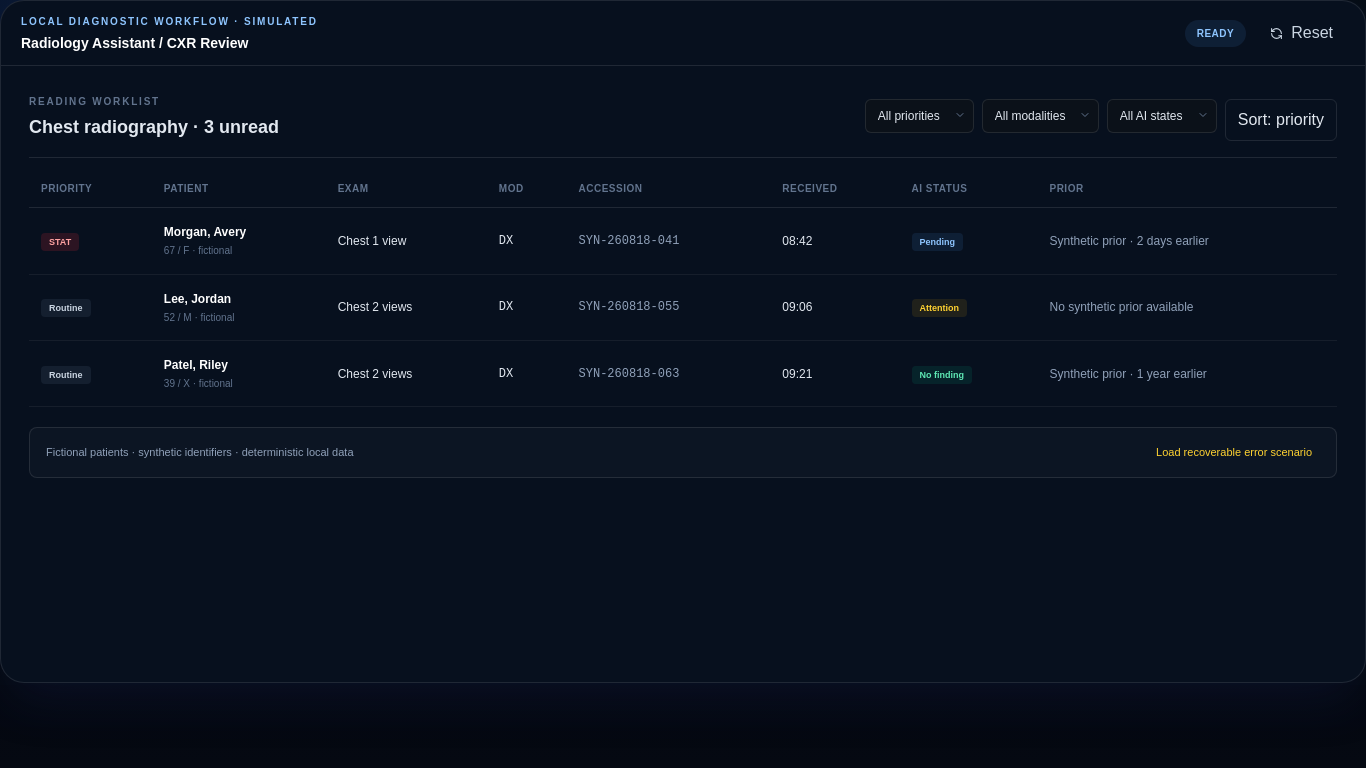
Radiology Assistant simulation › renders and filters the deterministic worklist with keyboard study selection
Expected: the heading "Chest radiography · 3 unread" is shown, [29,113,279,141]
Select "STAT" in the dropdown named "Priority": (919, 116) [865,99,974,133]
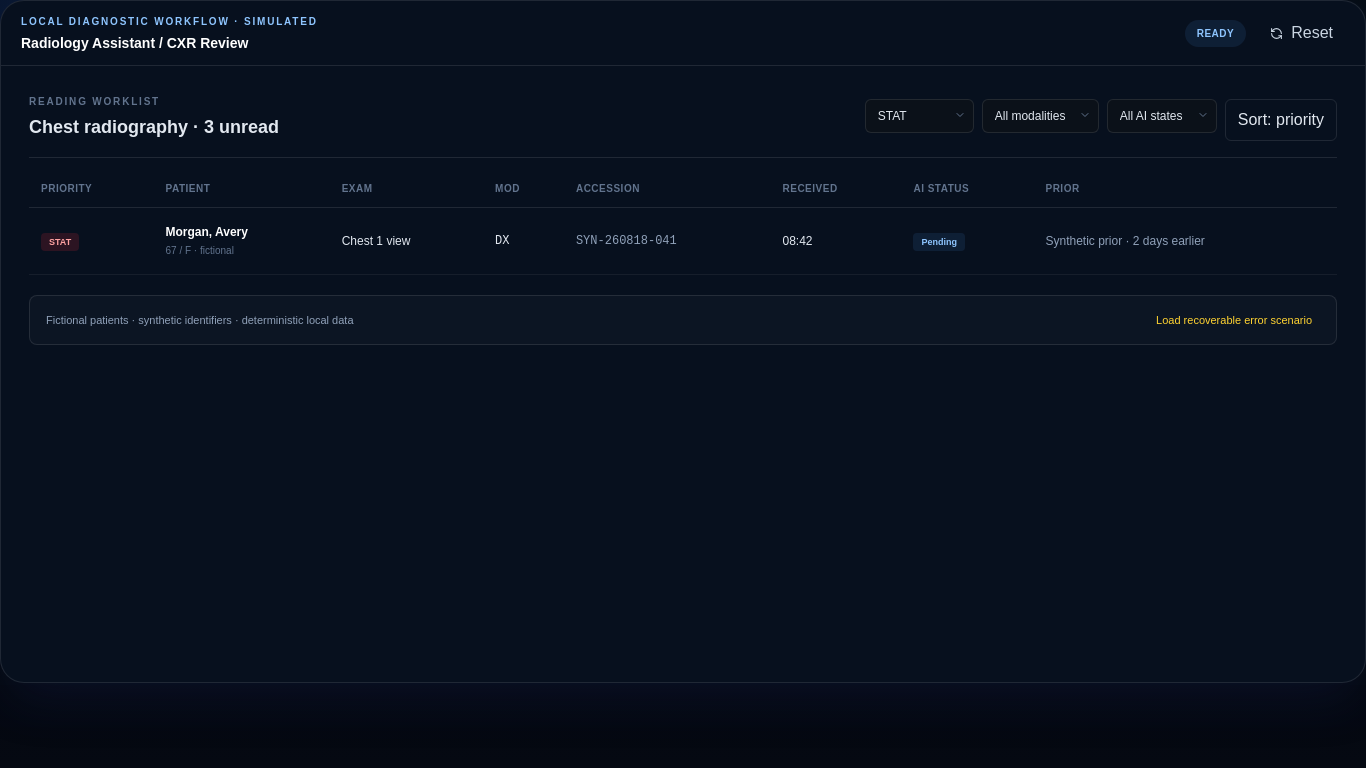
Expected: the text "Morgan, Avery" is shown, [166,225,248,239]
Now the text "Lee, Jordan" is gone
Press Enter in the text "Morgan, Avery", box [29,208,1337,274]
Wait 400 ms
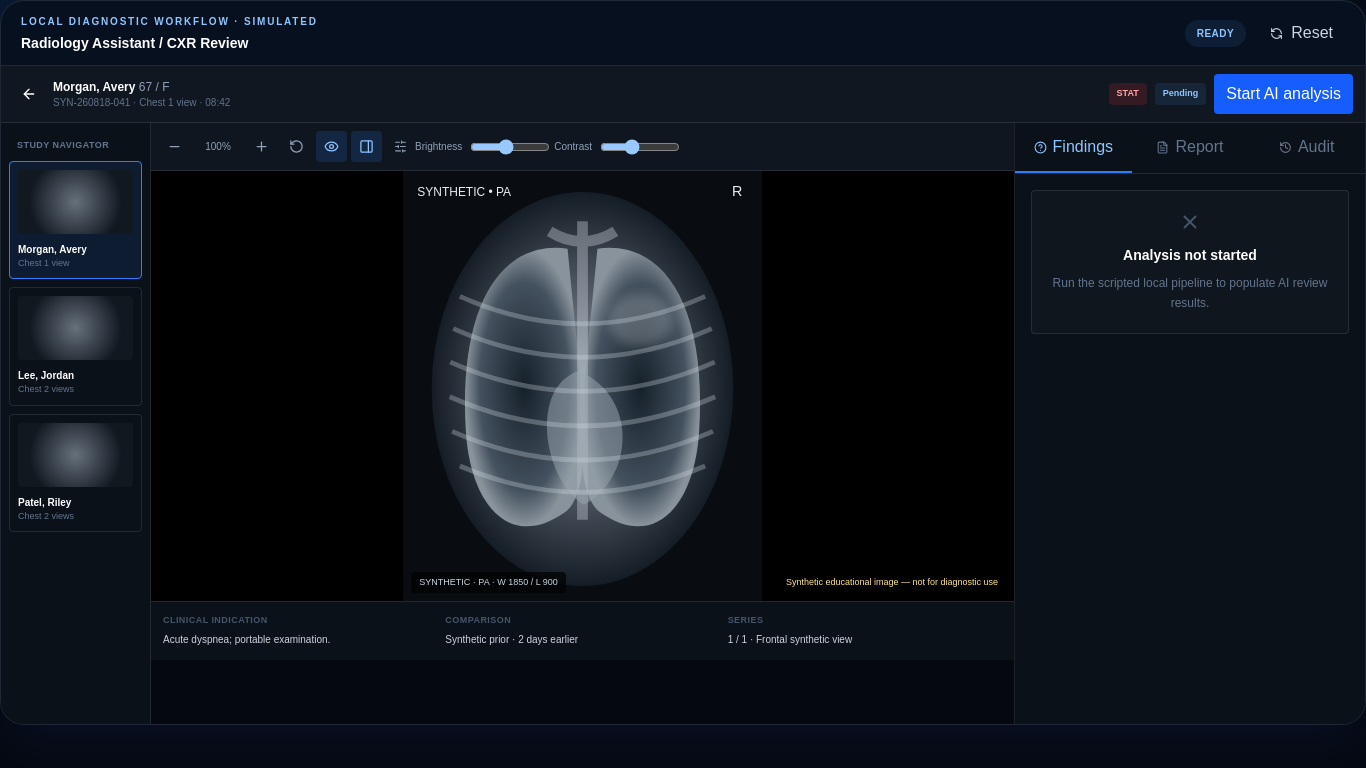
Now the button "Start AI analysis" is shown, box [1214,74,1353,114]
